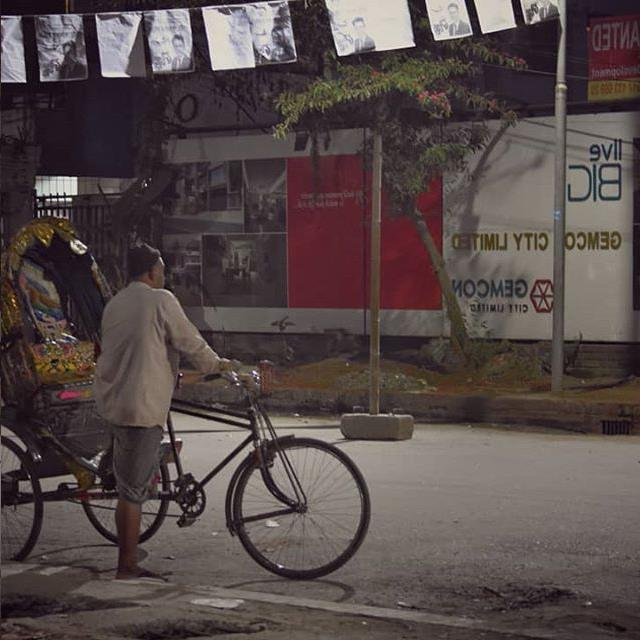Rickshaw: (5, 211, 375, 536)
